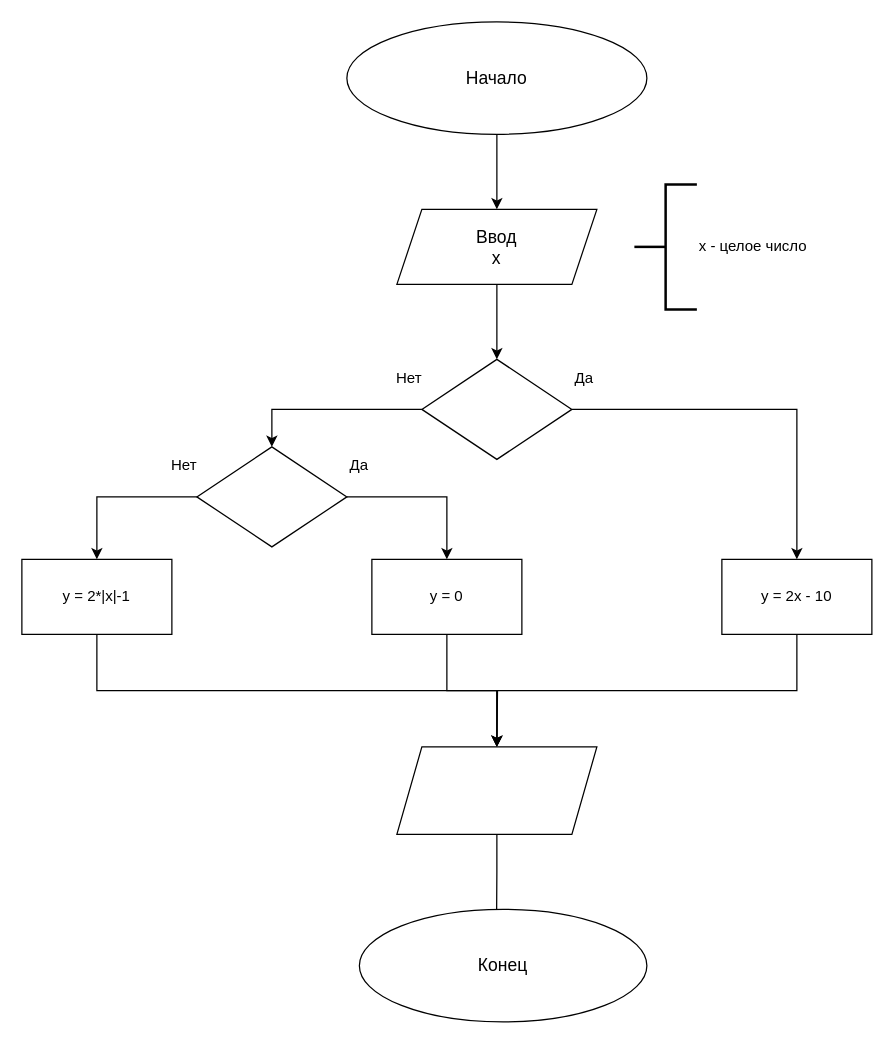
This 894x1053 diagram has some shape labels left out. The shapes that lost their labels are listed below. From the top down, each one's centre as x and y in pixels, then its label:
At (496,408): "x > 0".
At (271,496): "x = 0".
At (496,790): "Вывод y".
